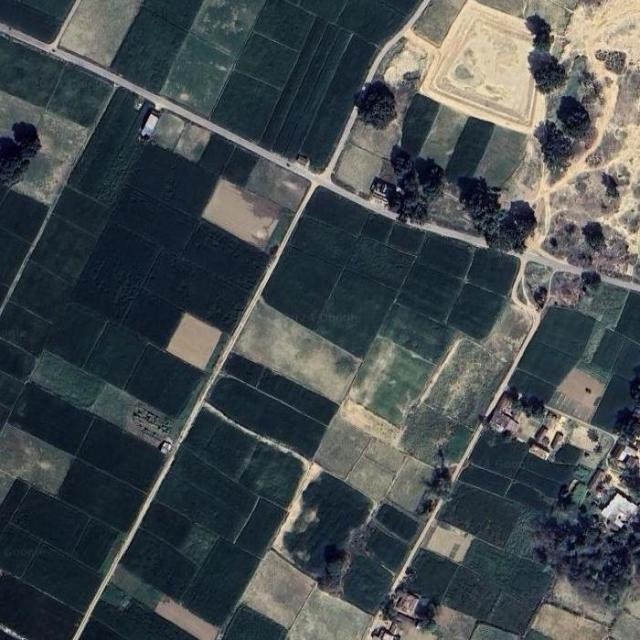land-Sx1C: (430, 1, 535, 124), (234, 300, 360, 402), (269, 462, 373, 578), (301, 35, 376, 168), (282, 28, 352, 164), (210, 378, 324, 457), (273, 23, 340, 156), (260, 19, 325, 149), (74, 225, 156, 321), (145, 254, 247, 330), (350, 336, 434, 424), (424, 339, 507, 427), (69, 90, 135, 197), (318, 270, 395, 355), (111, 6, 186, 92), (184, 540, 259, 625), (129, 145, 218, 216), (264, 246, 340, 328), (96, 97, 153, 206), (160, 34, 234, 116), (185, 221, 267, 292), (79, 419, 162, 489), (9, 384, 93, 453), (171, 449, 255, 518), (464, 540, 550, 607), (242, 550, 315, 628), (60, 460, 142, 529), (156, 475, 244, 538), (126, 346, 204, 416), (61, 0, 142, 67), (202, 179, 279, 249), (113, 189, 195, 251), (121, 531, 198, 597), (0, 576, 79, 640), (440, 484, 520, 547), (0, 425, 73, 494), (211, 71, 280, 141), (25, 545, 99, 609), (14, 490, 89, 551), (0, 36, 62, 106), (258, 370, 338, 424), (380, 304, 454, 362), (287, 589, 371, 640), (31, 351, 105, 408), (33, 216, 96, 282), (190, 0, 264, 56), (93, 600, 196, 640), (47, 65, 113, 126), (240, 444, 302, 506), (473, 124, 528, 192), (399, 261, 461, 321), (87, 325, 145, 387), (47, 305, 105, 366), (11, 264, 73, 321), (315, 416, 370, 479), (544, 576, 616, 624), (236, 34, 298, 88), (246, 159, 309, 211), (401, 405, 455, 464), (445, 118, 495, 181), (549, 366, 606, 421), (534, 307, 595, 358), (166, 313, 221, 369), (449, 284, 505, 339), (124, 293, 182, 346), (349, 240, 413, 288), (419, 105, 467, 169), (204, 421, 256, 479), (11, 153, 70, 204), (484, 301, 533, 362), (291, 218, 355, 264), (331, 143, 385, 197), (305, 187, 367, 234), (255, 0, 314, 49), (338, 0, 405, 43), (444, 567, 500, 618), (344, 555, 393, 613), (236, 499, 285, 556), (338, 399, 400, 444), (39, 110, 90, 164), (470, 430, 527, 478), (531, 604, 607, 640), (405, 550, 458, 601), (155, 598, 219, 640), (519, 339, 576, 385), (429, 184, 479, 236), (0, 304, 51, 354), (0, 0, 60, 42), (389, 456, 433, 513), (401, 94, 440, 158), (576, 282, 629, 328), (55, 189, 110, 233), (142, 505, 198, 548), (467, 249, 519, 295), (591, 375, 633, 431), (0, 191, 47, 241), (414, 0, 466, 45), (111, 566, 165, 609), (90, 384, 141, 429), (420, 234, 471, 278), (222, 605, 286, 639), (75, 520, 118, 569), (349, 119, 401, 159), (347, 455, 394, 499), (485, 591, 534, 633), (0, 526, 39, 576), (1, 90, 42, 137), (126, 405, 171, 447), (366, 529, 409, 571), (425, 525, 473, 562), (145, 0, 201, 31), (522, 0, 571, 34), (376, 504, 419, 541), (0, 229, 29, 283), (0, 480, 29, 533), (460, 466, 510, 496), (524, 454, 574, 484), (174, 122, 211, 162), (509, 370, 555, 402), (434, 605, 476, 640), (185, 410, 219, 453), (222, 147, 259, 186), (180, 525, 218, 562), (199, 134, 234, 174), (0, 340, 35, 379), (151, 111, 185, 151), (591, 330, 624, 371), (506, 482, 550, 511), (516, 469, 560, 498), (225, 354, 264, 386), (616, 291, 640, 343), (444, 425, 473, 462), (613, 340, 640, 379), (369, 441, 404, 471), (581, 321, 606, 363), (389, 224, 424, 253), (18, 0, 74, 18), (299, 0, 347, 21), (478, 0, 527, 18), (79, 620, 125, 639), (362, 214, 393, 242), (101, 584, 131, 612), (0, 371, 22, 407), (575, 361, 611, 383), (569, 425, 596, 453), (470, 624, 520, 639), (613, 613, 640, 640), (555, 444, 582, 466), (381, 0, 418, 14), (1, 470, 15, 504), (522, 629, 553, 639), (553, 0, 580, 11), (0, 405, 9, 429), (0, 184, 9, 203), (1, 284, 7, 303)
